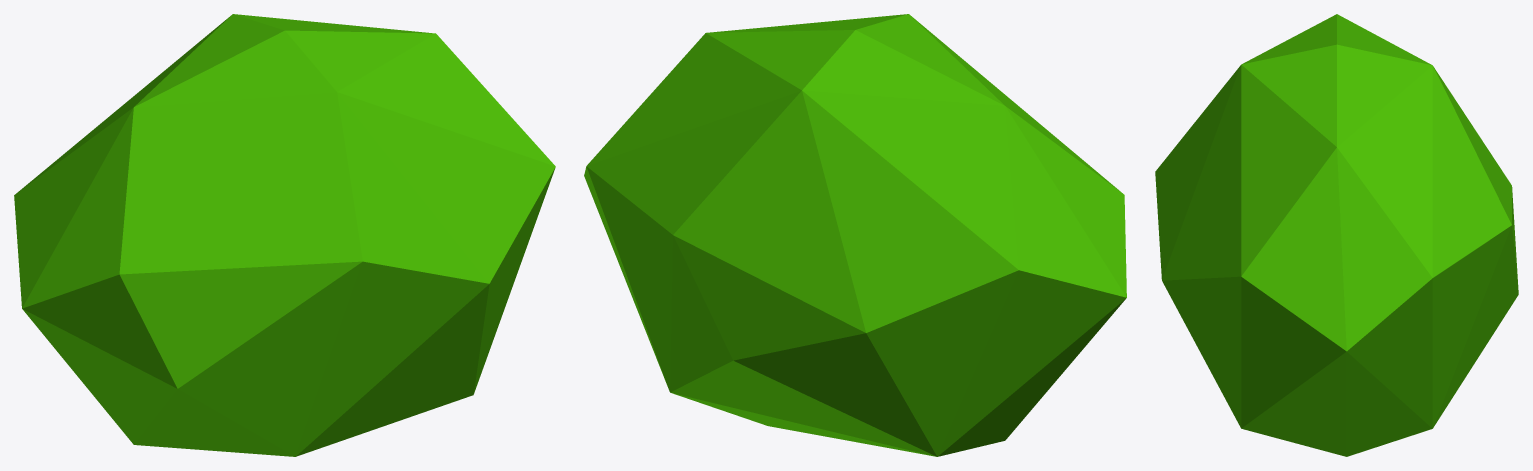
The model's file is Bush3.fbx.
3 views of the same model, side by side, from view 1: azimuth 30°, elevation 25°; view 2: azimuth 150°, elevation 25°; view 3: azimuth 270°, elevation 25° (orthographic). The views are drawn at different scales.
Visible parts, largest first — view 1: Bush3; view 2: Bush3; view 3: Bush3.
Part boxes in pixels (x1=…): Bush3: x1=14, y1=14, x2=555, y2=456; Bush3: x1=584, y1=14, x2=1126, y2=456; Bush3: x1=1155, y1=14, x2=1518, y2=456.
Size of the model in its own units: 0.7082 by 0.5243 by 0.4597.
